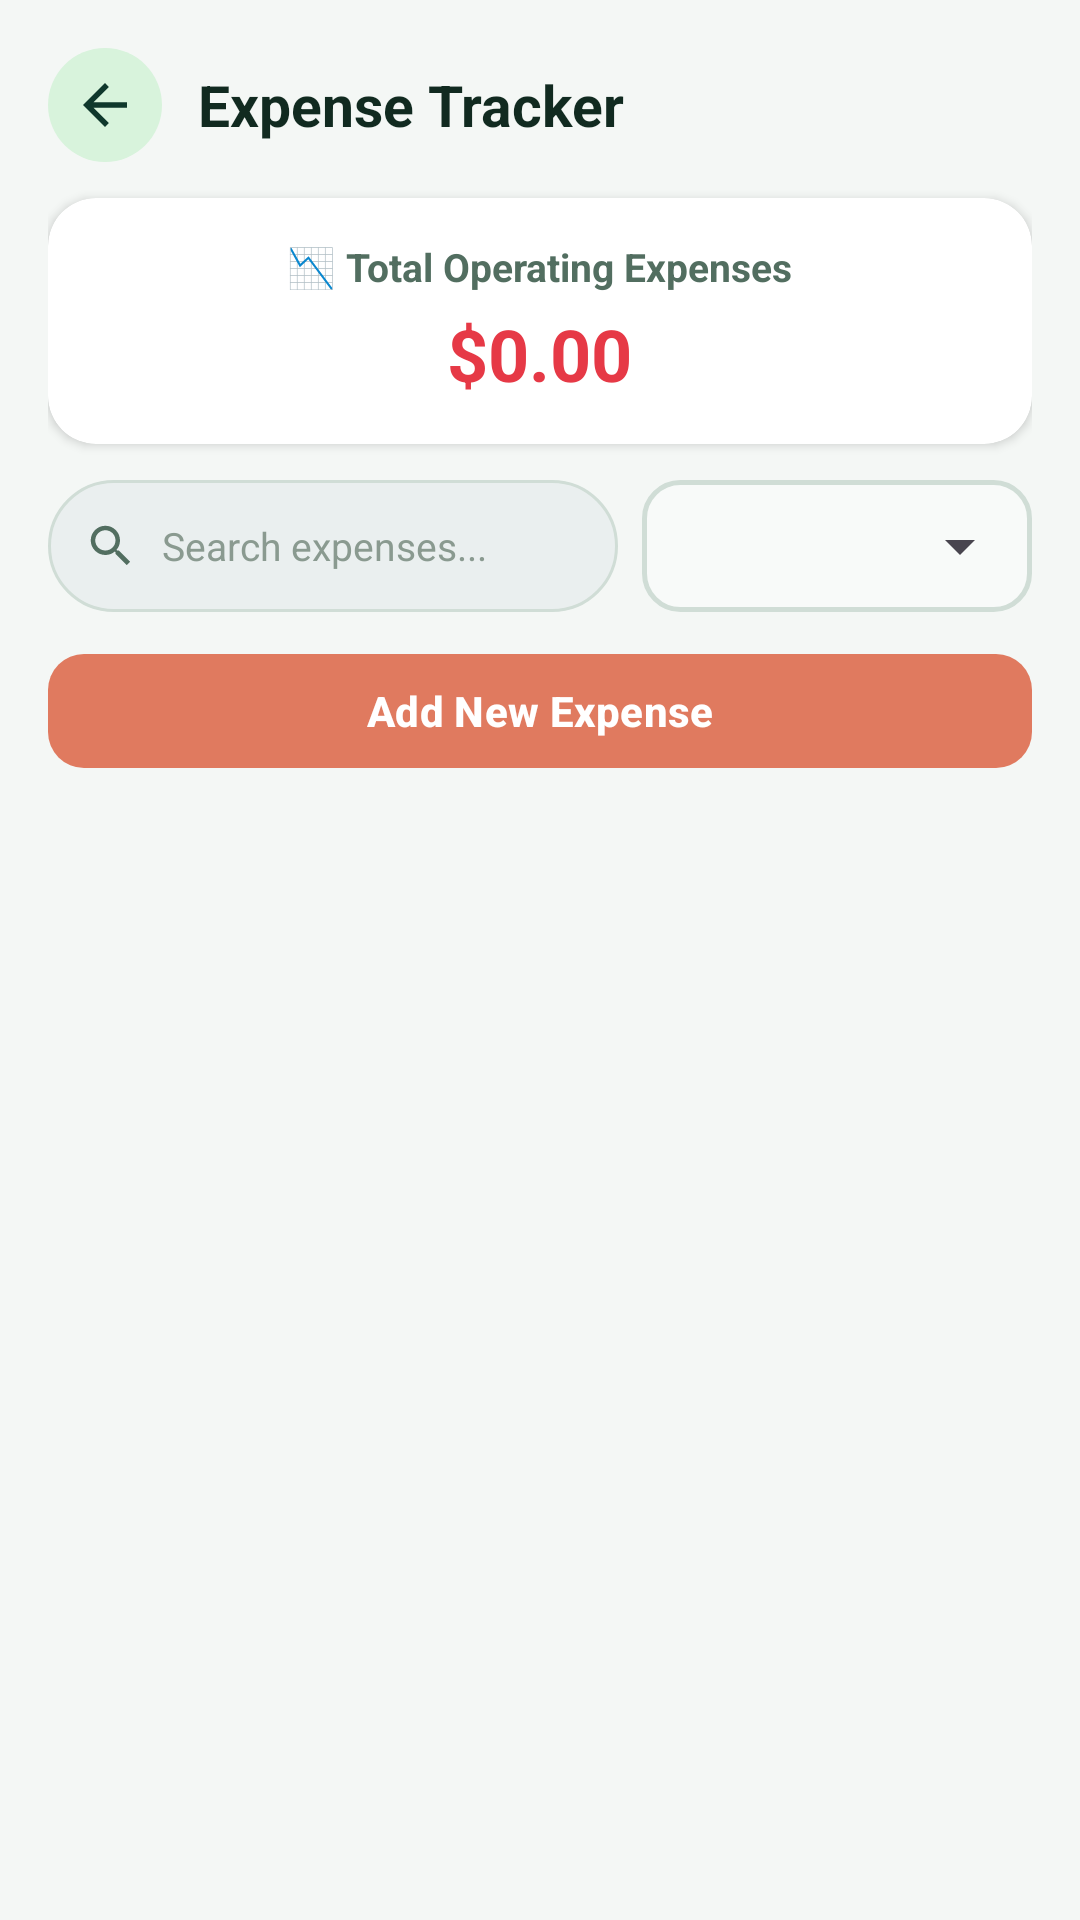

Named icons in this screenshot (1080x1920) and their bounding boxes, (x1, y1, x2, y2):
Back: (48, 48, 162, 162)
